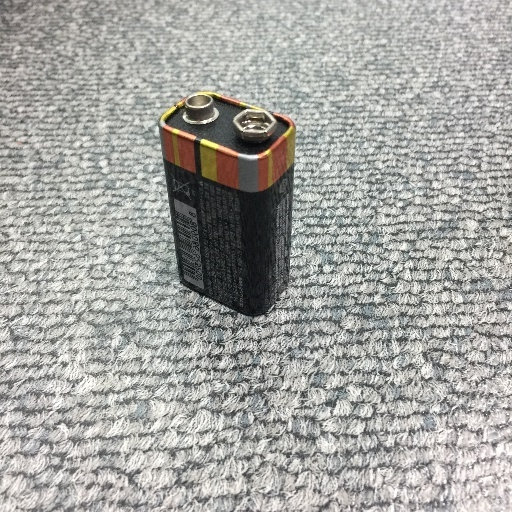Battery_3: (146, 76, 310, 332)
